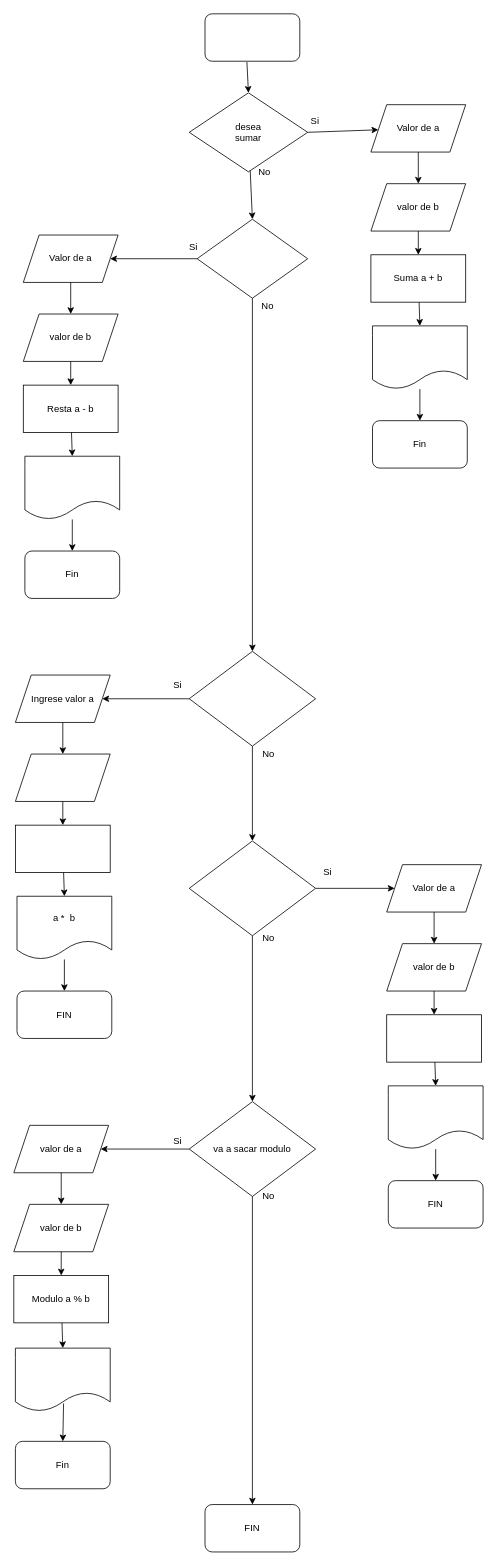
The diagram is 497 pixels wide and 1566 high, and some of its shapes have lost their labels. Each missing label, with the centre of its shape:
desea Dividir: pixel 252 888
Desea Multiplicar: pixel 252 698
desea restar: pixel 252 258
Divide a / b: pixel 434 1038
Division: pixel 435 1117
ingrese valor b: pixel 62 777
Inicio: pixel 252 37
Modulo: pixel 62 1379
Multiplica a * b: pixel 62 848
Resta: pixel 72 487
Suma: pixel 419 357
